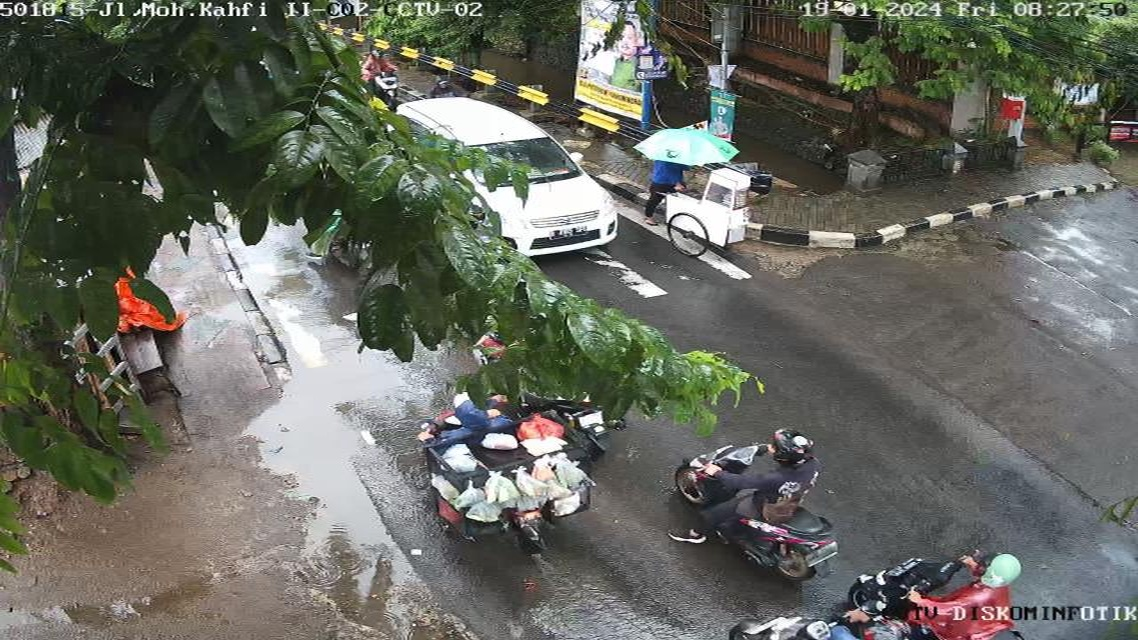Gerobak: (663, 168, 756, 257)
